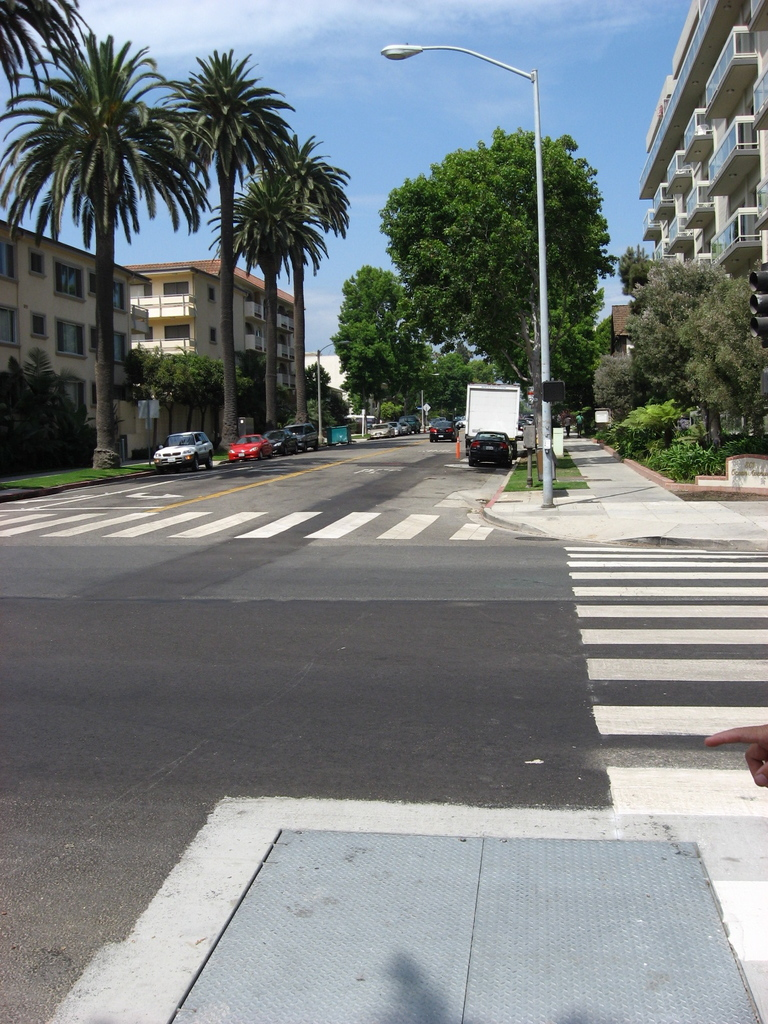Tree: (375, 124, 620, 417), (623, 252, 768, 446), (326, 263, 442, 414), (122, 340, 255, 449), (394, 341, 504, 425), (610, 244, 667, 296)
